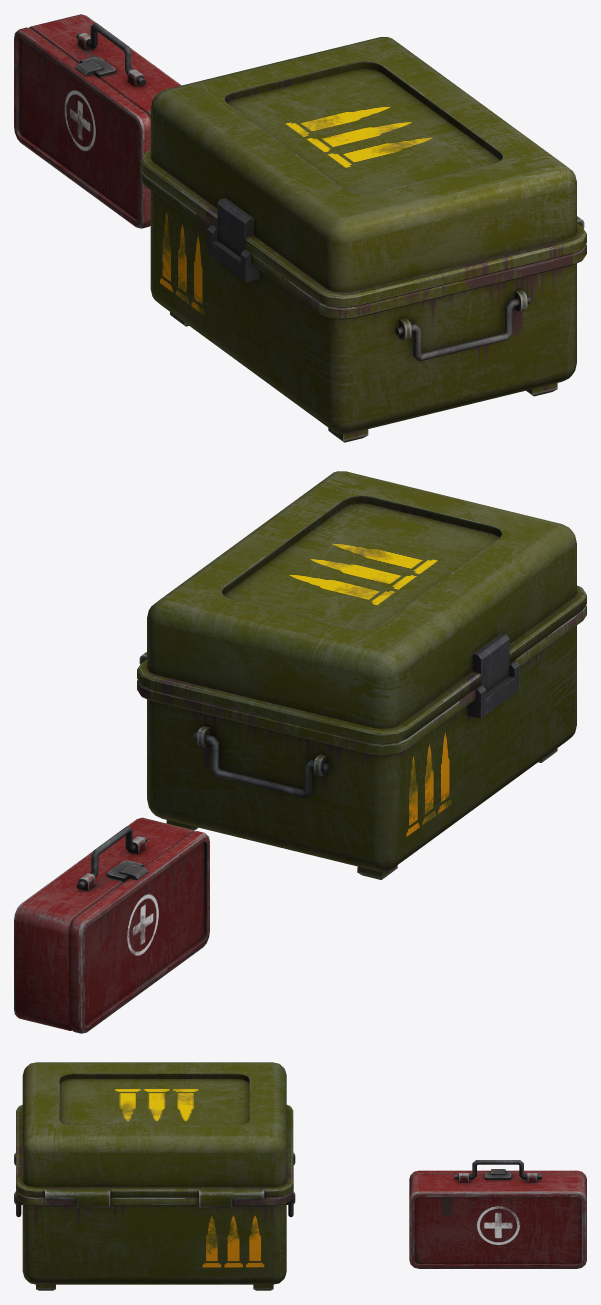
Rendered from ammo__healthbox.glb.
3 renders of one model, top to bottom at view 1: azimuth 30°, elevation 25°; view 2: azimuth 150°, elevation 25°; view 3: azimuth 270°, elevation 25°, orthographic. The views are drawn at different scales.
Visible parts, largest first — view 1: ammobox, healthbox; view 2: ammobox, healthbox; view 3: ammobox, healthbox.
Part boxes in pixels (left/top/right/bottom): ammobox: left=140, top=37, right=586, bottom=442; healthbox: left=14, top=14, right=181, bottom=228; ammobox: left=137, top=471, right=586, bottom=879; healthbox: left=14, top=817, right=209, bottom=1033; ammobox: left=14, top=1062, right=295, bottom=1290; healthbox: left=409, top=1160, right=586, bottom=1268.
Size of the model in its own units: 70.75 by 56.58 by 184.
1 material, 1 textured.
